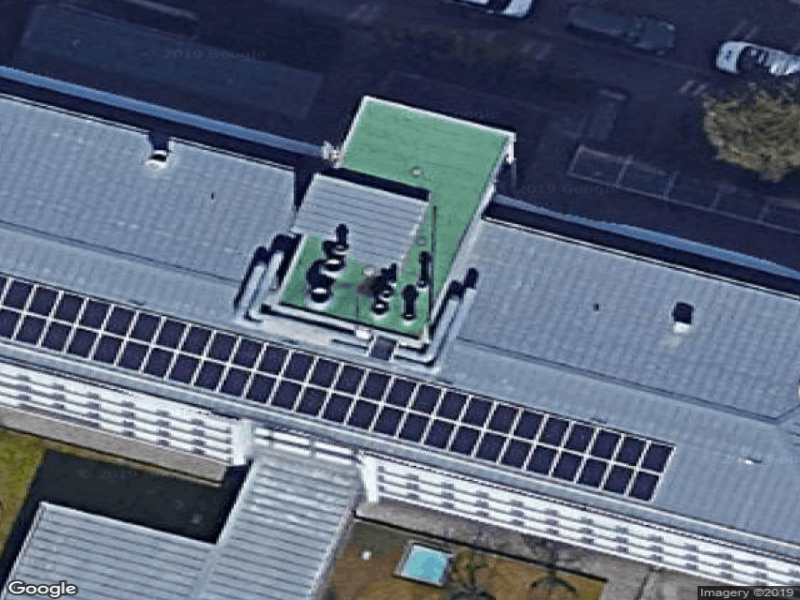pv: (1, 271, 675, 503)
